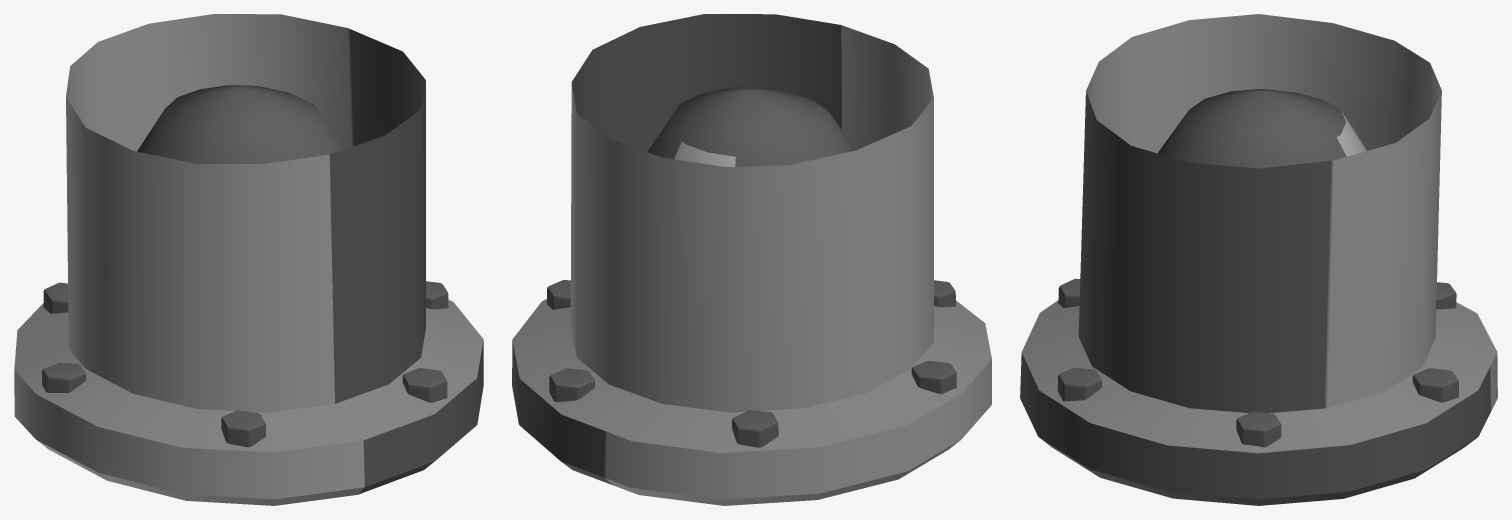
Rendered from SM_tuyau_spawn_low.fbx.
The picture shows the model from 3 angles, left to right: view 1: azimuth 30°, elevation 25°; view 2: azimuth 150°, elevation 25°; view 3: azimuth 270°, elevation 25°; orthographic projection.
Visible parts, largest first — view 1: SM_tuyau_spawn_low; view 2: SM_tuyau_spawn_low; view 3: SM_tuyau_spawn_low.
Part boxes in pixels (x1,y1,x2,y2): SM_tuyau_spawn_low: (14,14,483,505); SM_tuyau_spawn_low: (512,14,991,505); SM_tuyau_spawn_low: (1020,14,1497,505).
Bounding box in the file's own units: 1.1 × 0.8168 × 1.1.
1 material, 1 textured.
